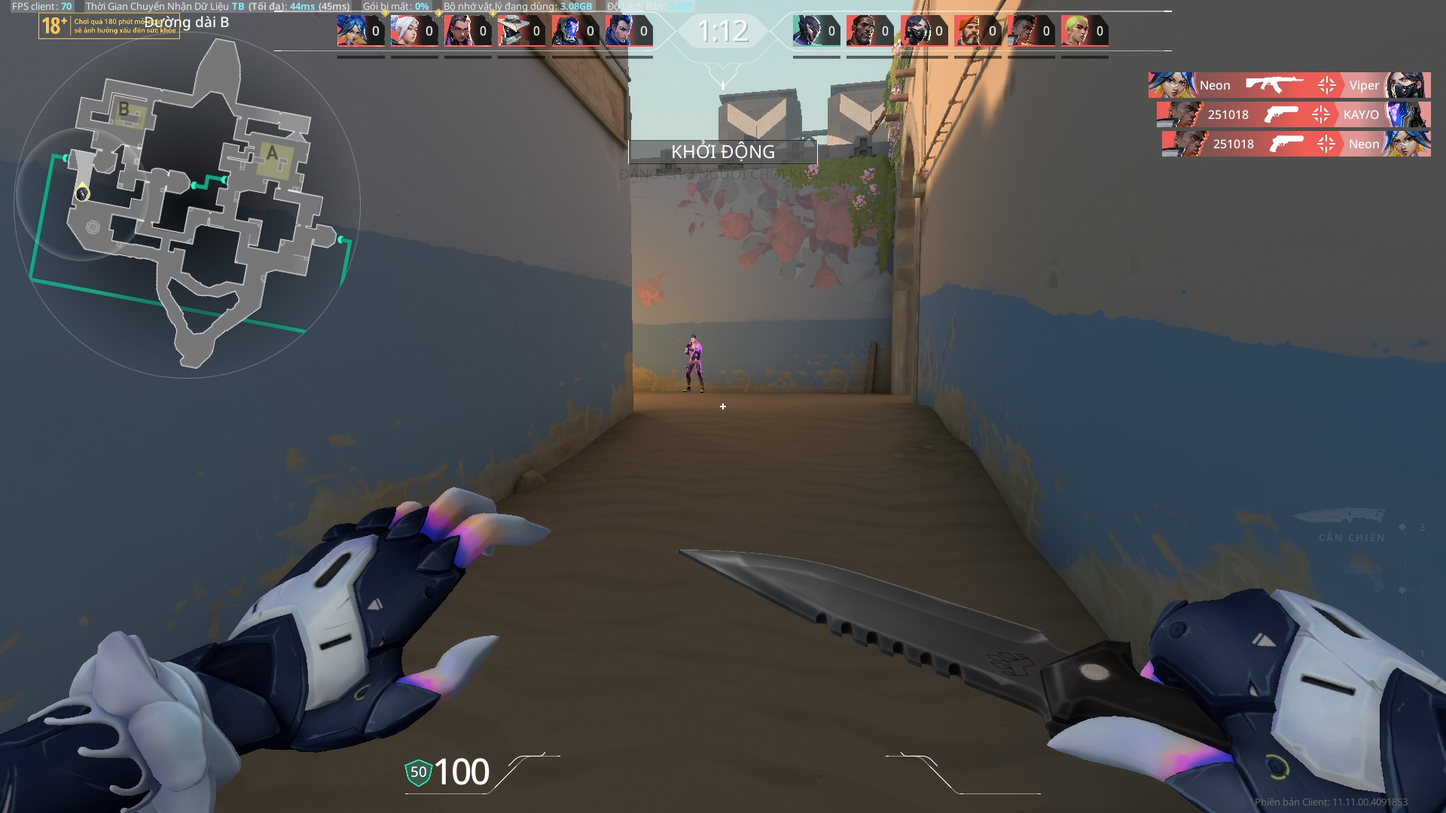body: (687, 340, 703, 361)
head: (690, 333, 699, 340)
